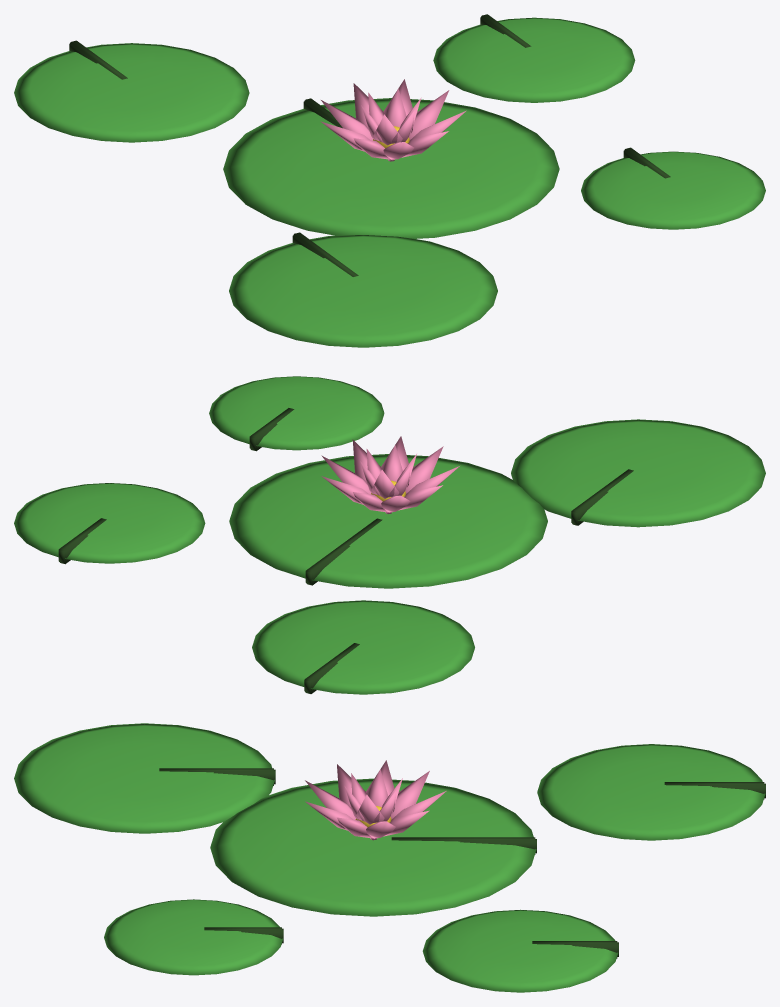
File: LilyPads.fbx
3 views of the same model, one above another, from view 1: azimuth 30°, elevation 25°; view 2: azimuth 150°, elevation 25°; view 3: azimuth 270°, elevation 25° (orthographic). The views are drawn at different scales.
Visible parts, largest first — view 1: LilyPads; view 2: LilyPads; view 3: LilyPads.
Part boxes in pixels (<box>): LilyPads: <box>14,14,765,347</box>; LilyPads: <box>14,376,765,694</box>; LilyPads: <box>14,723,765,992</box>.
Size of the model in its own units: 390 by 50.57 by 460.
1 material, 1 textured.
